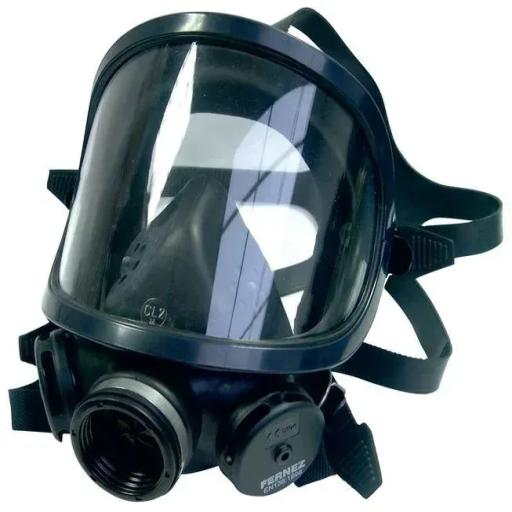mask: (12, 0, 457, 505)
